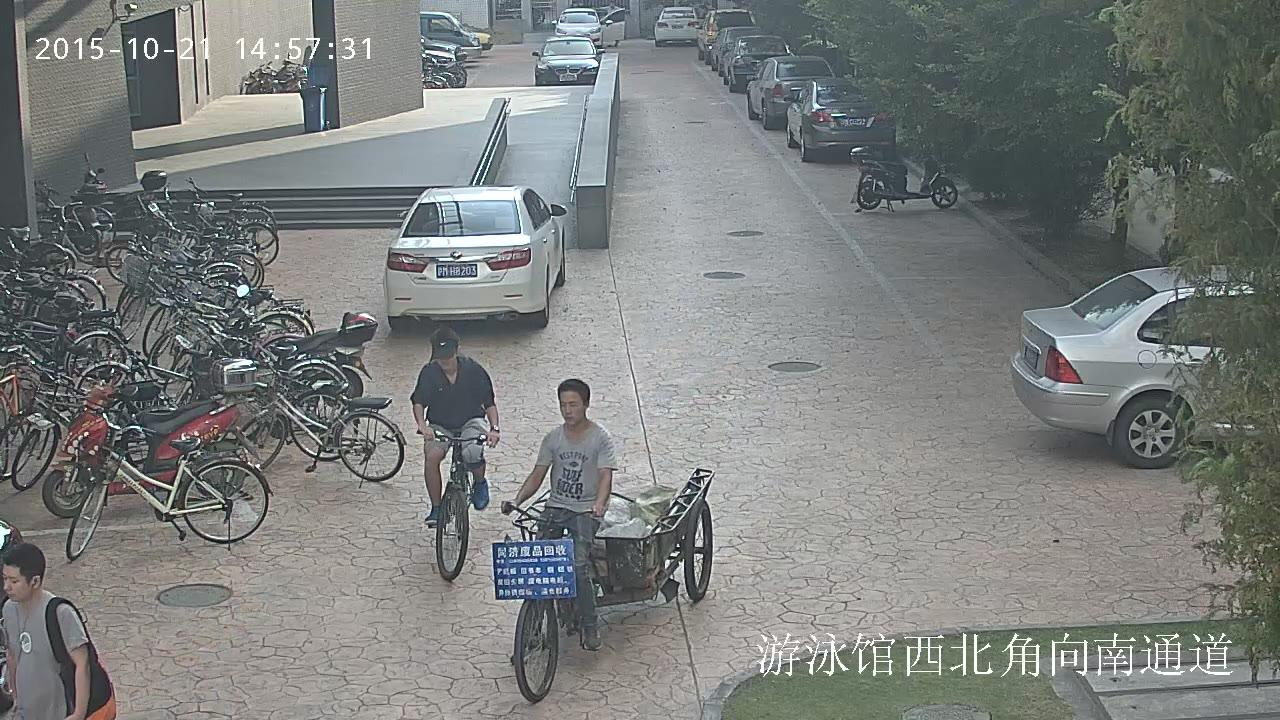person: (491, 377, 636, 703), (500, 378, 619, 653), (408, 323, 500, 581), (0, 542, 115, 717), (409, 325, 499, 526), (604, 0, 621, 47)
